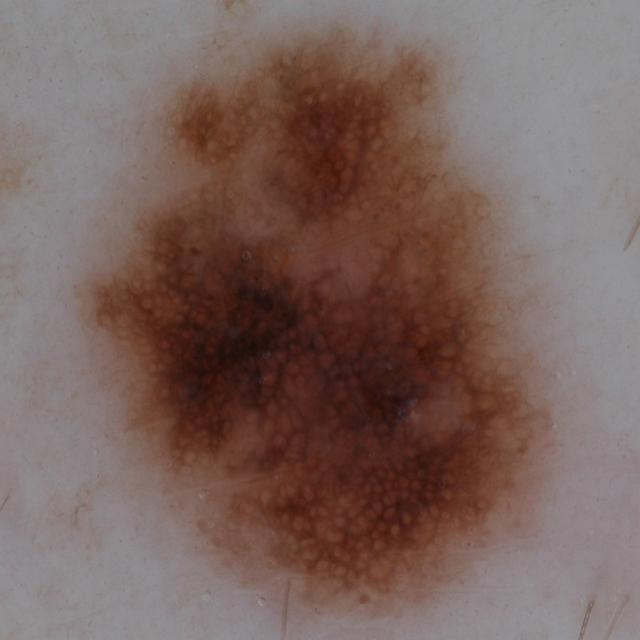Skin-Cancer Nevus: (6, 53, 615, 616)
